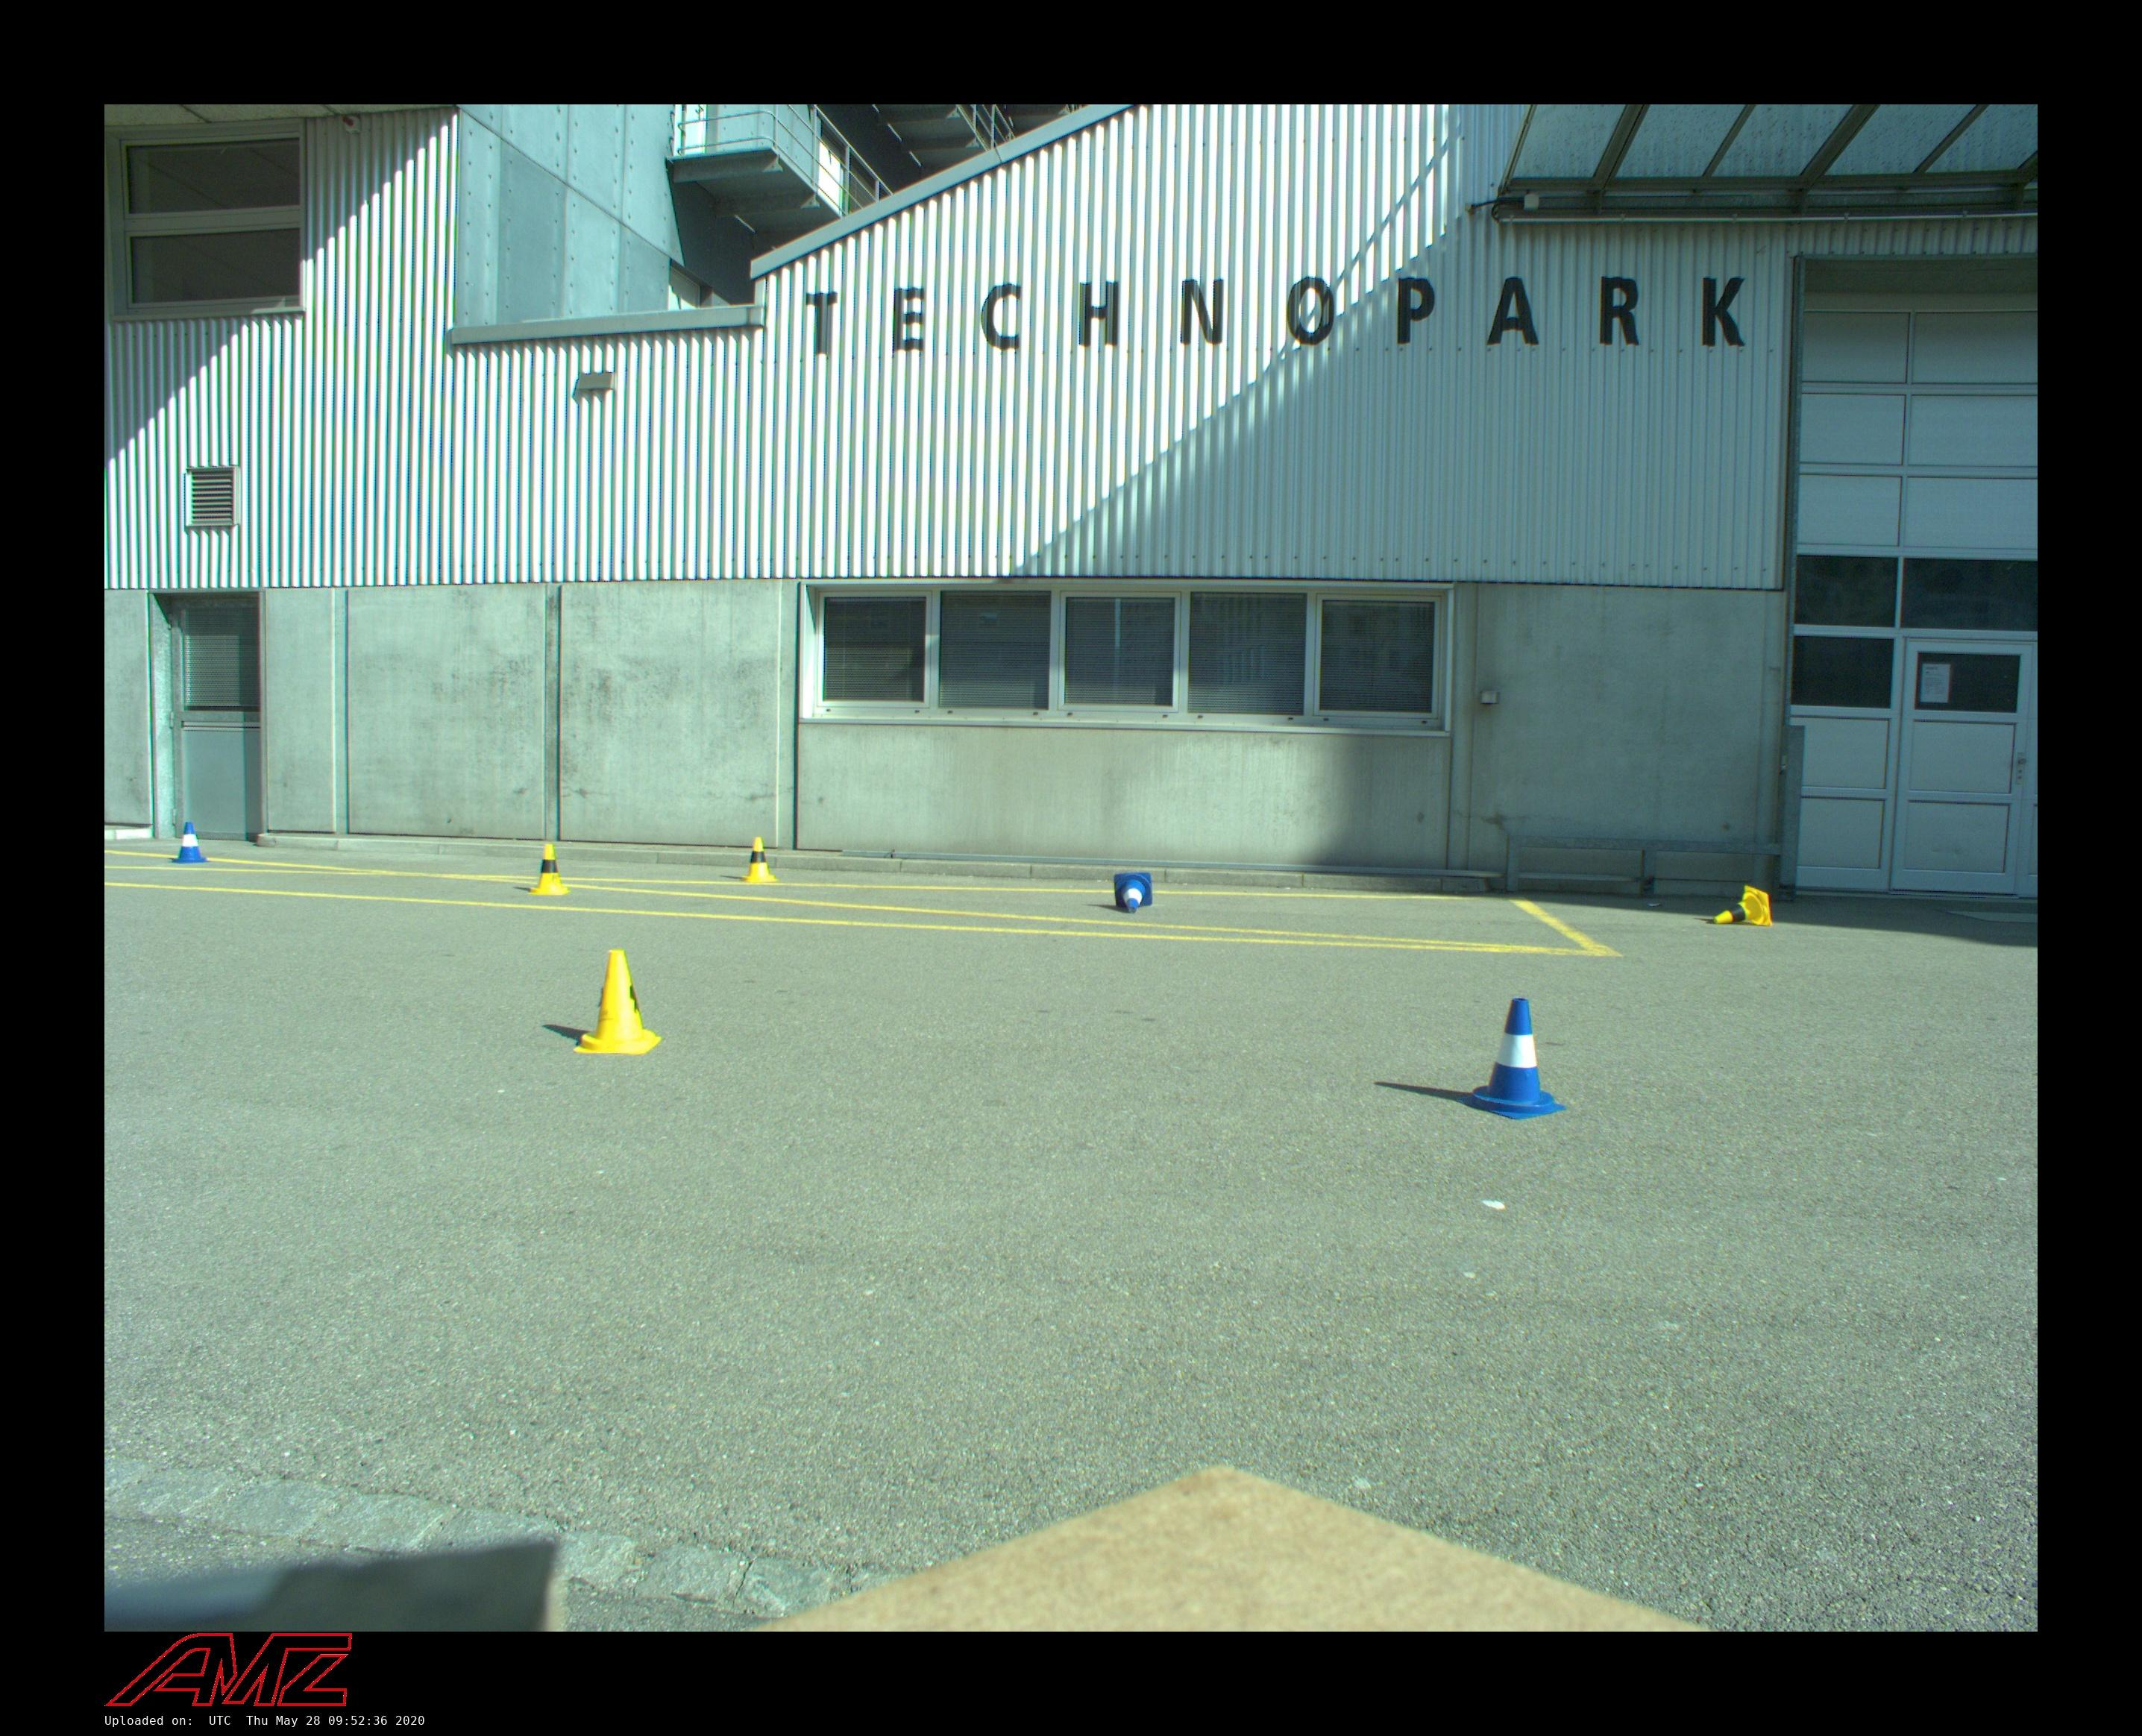blue_cone: (1456, 997, 1566, 1120), (1113, 873, 1153, 912), (170, 822, 209, 863)
yellow_cone: (574, 949, 661, 1054), (1715, 886, 1773, 926), (528, 845, 570, 895), (741, 838, 778, 882)
